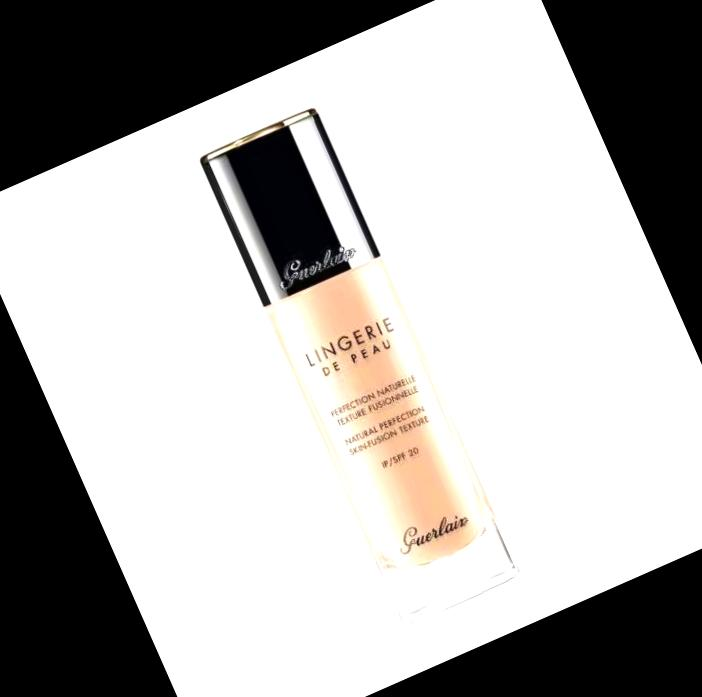cosmetic: (197, 102, 524, 624)
